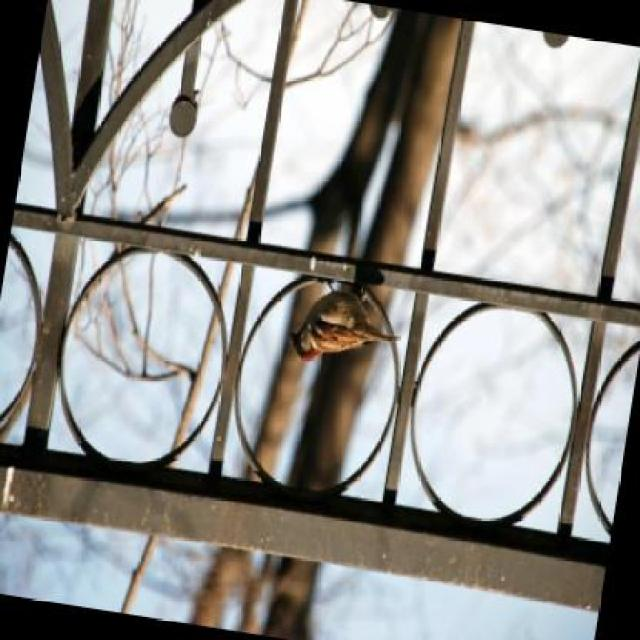sparrow: (282, 274, 400, 374)
